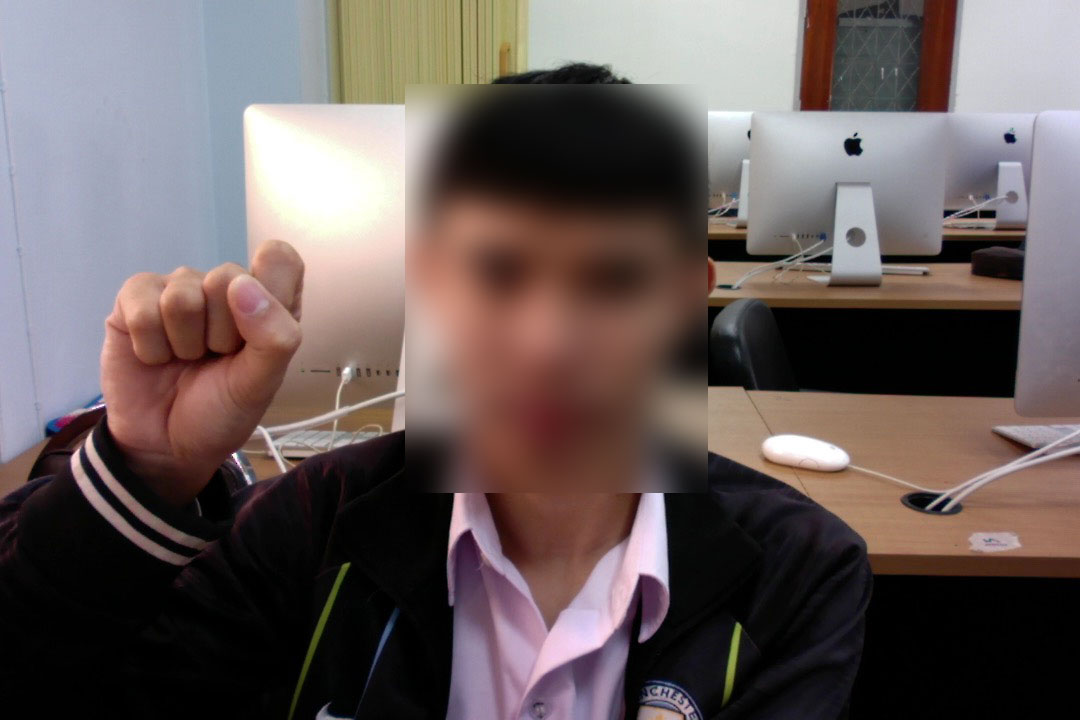sor: (90, 233, 315, 483)
